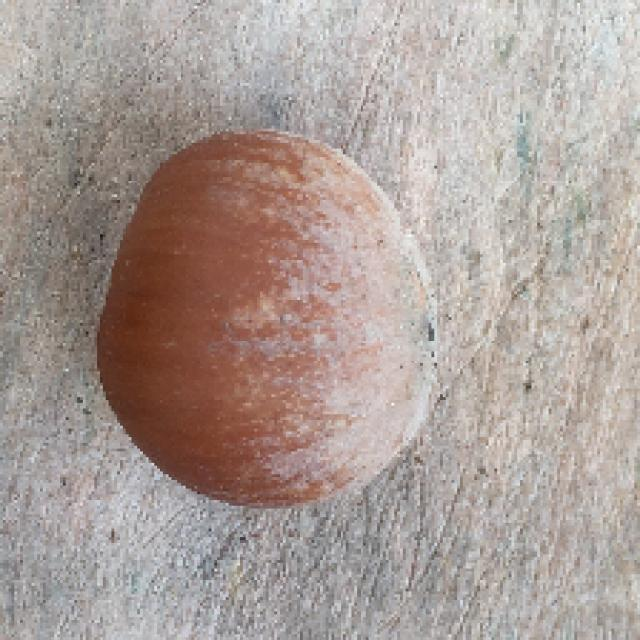qualityHazelnut: (92, 123, 451, 517)
